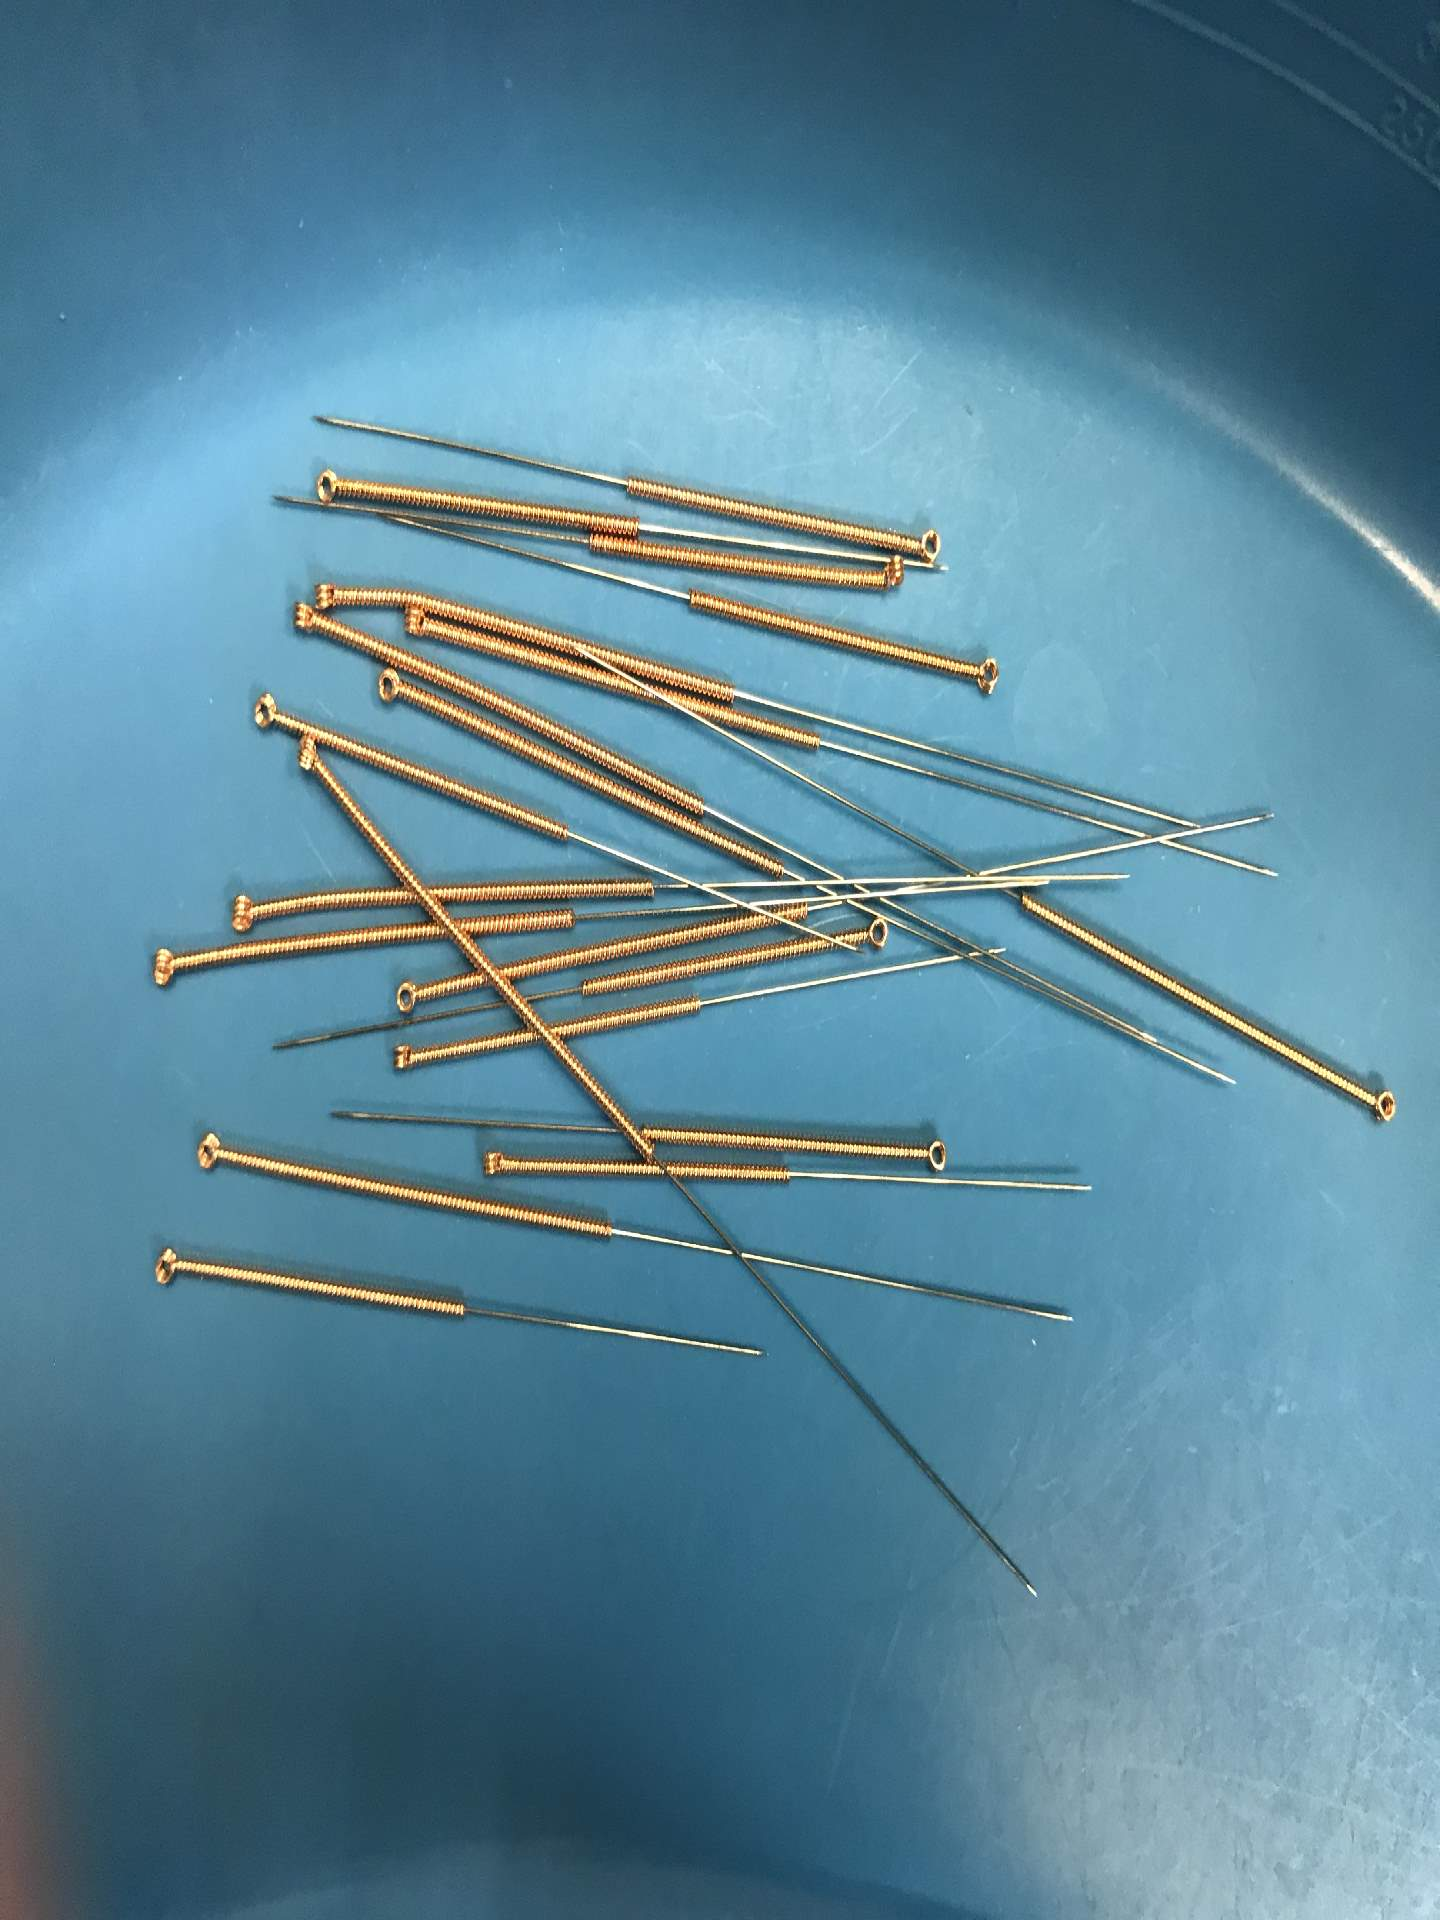needle: (961, 643, 1012, 706), (216, 884, 272, 940), (144, 1237, 194, 1297), (242, 683, 293, 741), (303, 458, 352, 516), (141, 939, 191, 996), (366, 664, 417, 717), (186, 1123, 231, 1182), (1360, 1078, 1407, 1134), (908, 1128, 954, 1181), (287, 733, 330, 791), (470, 1140, 517, 1188), (852, 910, 898, 958), (868, 553, 914, 603), (386, 972, 431, 1022), (392, 600, 439, 647), (906, 519, 945, 570), (306, 568, 349, 614), (380, 1036, 424, 1081), (284, 596, 324, 643)
